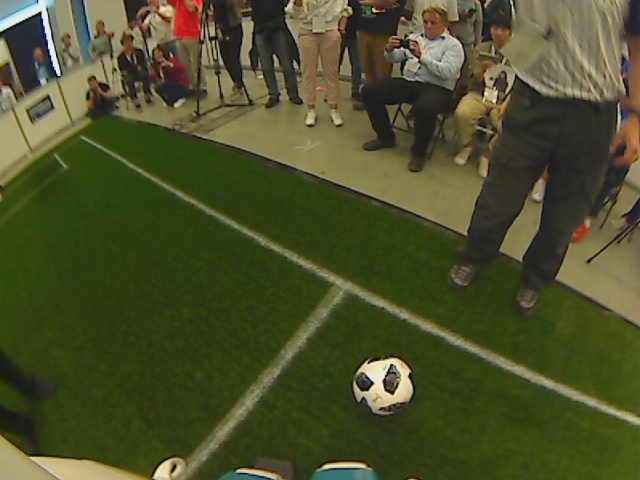ball: (351, 354, 415, 416)
